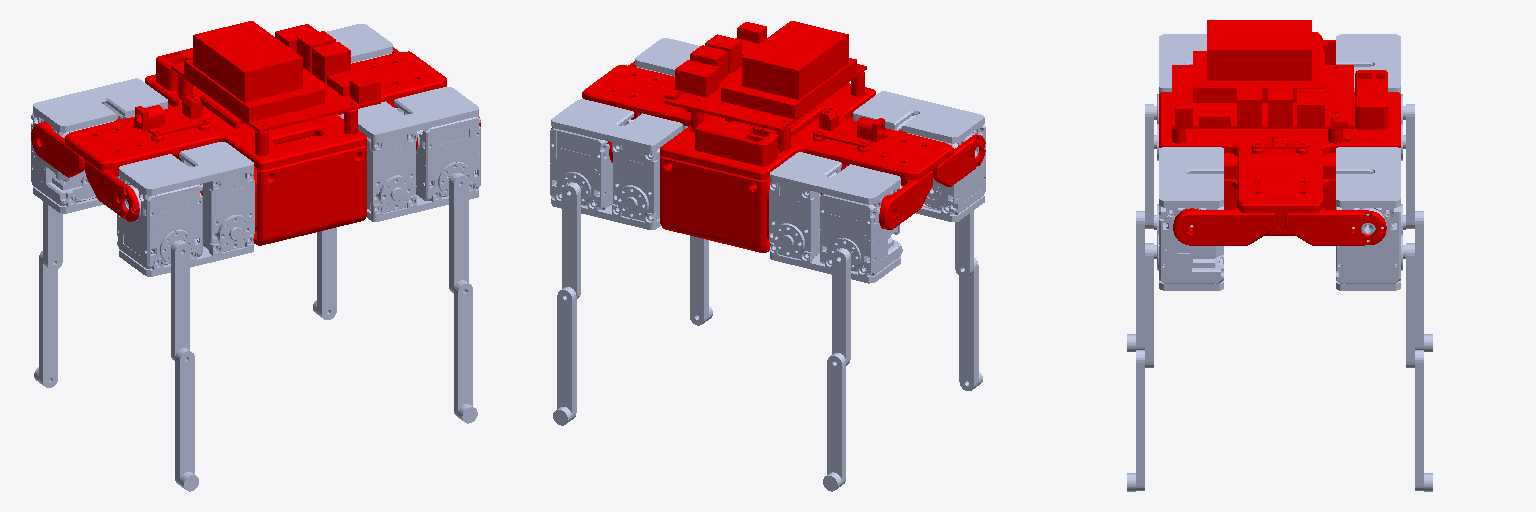
URDF robot description (fooldog_urdf):
<?xml version="1.0" encoding="utf-8"?>
<!-- This URDF was automatically created by SolidWorks to URDF Exporter! Originally created by [author] ([email redacted]) 
     Commit Version: 1.6.0-4-g7f85cfe  Build Version: 1.6.7995.38578
     For more information, please see http://wiki.ros.org/sw_urdf_exporter -->
<robot
  name="fooldog_urdf">
  <link
    name="base_link">
    <visual>
      <origin
        xyz="0 0 0"
        rpy="0 0 0" />
      <geometry>
        <mesh
          filename="package://fooldog_urdf/meshes/base_link.STL" />
      </geometry>
      <material
        name="">
        <color
          rgba="1 0 0 1" />
      </material>
    </visual>
    <collision>
      <origin
        xyz="0 0 0"
        rpy="0 0 0" />
      <geometry>
        <mesh
          filename="package://fooldog_urdf/meshes/base_link.STL" />
      </geometry>
    </collision>
  </link>
  <link
    name="fl_Link">
    <inertial>
      <origin
        xyz="0.0362396128583494 0.000881421034328853 -0.0121399997669012"
        rpy="0 0 0" />
      <mass
        value="0.115606527774141" />
      <inertia
        ixx="2.7672758582273E-05"
        ixy="3.61016816676796E-07"
        ixz="-6.54728431466397E-09"
        iyy="3.30818992521892E-05"
        iyz="2.55280788679725E-07"
        izz="2.76816776750825E-05" />
    </inertial>
    <visual>
      <origin
        xyz="0 0 0"
        rpy="0 0 0" />
      <geometry>
        <mesh
          filename="package://fooldog_urdf/meshes/fl_Link.STL" />
      </geometry>
      <material
        name="">
        <color
          rgba="0.792156862745098 0.819607843137255 0.933333333333333 1" />
      </material>
    </visual>
    <collision>
      <origin
        xyz="0 0 0"
        rpy="0 0 0" />
      <geometry>
        <mesh
          filename="package://fooldog_urdf/meshes/fl_Link.STL" />
      </geometry>
    </collision>
  </link>
  <joint
    name="fl"
    type="revolute">
    <origin
      xyz="0.00723678392728447 0.0485586045266115 -0.0196700000000003"
      rpy="0 0 0" />
    <parent
      link="base_link" />
    <child
      link="fl_Link" />
    <axis
      xyz="1 0 0" />
    <limit command_effort="40" current="10" effort="80" gear_velocity="10" lower="-9.42" upper="9.42" velocity="15.0" />
  </joint>
  <link
    name="flu_Link">
    <inertial>
      <origin
        xyz="-8.3100610129283E-08 0.00250249593004062 -0.0325001100766686"
        rpy="0 0 0" />
      <mass
        value="0.00356977187980691" />
      <inertia
        ixx="1.54760219123258E-06"
        ixy="-1.97101940239977E-13"
        ixz="-1.11937080823944E-11"
        iyy="1.56961934496898E-06"
        iyz="6.87149175614032E-13"
        izz="3.6891361382989E-08" />
    </inertial>
    <visual>
      <origin
        xyz="0 0 0"
        rpy="0 0 0" />
      <geometry>
        <mesh
          filename="package://fooldog_urdf/meshes/flu_Link.STL" />
      </geometry>
      <material
        name="">
        <color
          rgba="0.792156862745098 0.819607843137255 0.933333333333333 1" />
      </material>
    </visual>
    <collision>
      <origin
        xyz="0 0 0"
        rpy="0 0 0" />
      <geometry>
        <mesh
          filename="package://fooldog_urdf/meshes/flu_Link.STL" />
      </geometry>
    </collision>
  </link>
  <joint
    name="flu"
    type="continuous">
    <origin
      xyz="0.0524464493931691 0.0209174990447602 -0.0240000000000004"
      rpy="0 0 0" />
    <parent
      link="fl_Link" />
    <child
      link="flu_Link" />
    <axis
      xyz="0 1 0" />
  </joint>
  <link
    name="fld_Link">
    <inertial>
      <origin
        xyz="-2.18695815623615E-09 0.00249999534071721 -0.0374999107536592"
        rpy="0 0 0" />
      <mass
        value="0.00406938938923673" />
      <inertia
        ixx="2.2827457514132E-06"
        ixy="-1.78424846650356E-14"
        ixz="-9.64938373066733E-12"
        iyy="2.30788290654951E-06"
        iyz="7.26000690668644E-13"
        izz="4.20931619021605E-08" />
    </inertial>
    <visual>
      <origin
        xyz="0 0 0"
        rpy="0 0 0" />
      <geometry>
        <mesh
          filename="package://fooldog_urdf/meshes/fld_Link.STL" />
      </geometry>
      <material
        name="">
        <color
          rgba="0.792156862745098 0.819607843137255 0.933333333333333 1" />
      </material>
    </visual>
    <collision>
      <origin
        xyz="0 0 0"
        rpy="0 0 0" />
      <geometry>
        <mesh
          filename="package://fooldog_urdf/meshes/fld_Link.STL" />
      </geometry>
    </collision>
  </link>
  <joint
    name="fld"
    type="continuous">
    <origin
      xyz="0 0.00500250095523978 -0.0649999643759598"
      rpy="0 0 0" />
    <parent
      link="flu_Link" />
    <child
      link="fld_Link" />
    <axis
      xyz="0 1 0" />
  </joint>
  <link
    name="flf_Link">
    <inertial>
      <origin
        xyz="-1.7541244572844E-07 0.00250004386431849 6.64767560998314E-08"
        rpy="0 0 0" />
      <mass
        value="0.000392662064001443" />
      <inertia
        ixx="3.27416101920322E-09"
        ixy="1.37752604700155E-13"
        ixz="-4.67235530190916E-13"
        iyy="4.90800875634096E-09"
        iyz="-5.22046555243651E-14"
        izz="3.26984780841236E-09" />
    </inertial>
    <visual>
      <origin
        xyz="0 0 0"
        rpy="0 0 0" />
      <geometry>
        <mesh
          filename="package://fooldog_urdf/meshes/flf_Link.STL" />
      </geometry>
      <material
        name="">
        <color
          rgba="0.792156862745098 0.819607843137255 0.933333333333333 1" />
      </material>
    </visual>
    <collision>
      <origin
        xyz="0 0 0"
        rpy="0 0 0" />
      <geometry>
        <mesh
          filename="package://fooldog_urdf/meshes/flf_Link.STL" />
      </geometry>
    </collision>
  </link>
  <joint
    name="flf"
    type="fixed">
    <origin
      xyz="0 0.00499999999999999 -0.074999999999994"
      rpy="0 0 0" />
    <parent
      link="fld_Link" />
    <child
      link="flf_Link" />
  </joint>
  <link
    name="fr_Link">
    <inertial>
      <origin
        xyz="0.0353657573446796 -0.000881458634347174 -0.01213993551594"
        rpy="0 0 0" />
      <mass
        value="0.115607202953719" />
      <inertia
        ixx="2.76734007268047E-05"
        ixy="3.37826313509432E-07"
        ixz="3.83056804594391E-09"
        iyy="3.30828494629692E-05"
        iyz="-2.55205398451743E-07"
        izz="2.76822536893207E-05" />
    </inertial>
    <visual>
      <origin
        xyz="0 0 0"
        rpy="0 0 0" />
      <geometry>
        <mesh
          filename="package://fooldog_urdf/meshes/fr_Link.STL" />
      </geometry>
      <material
        name="">
        <color
          rgba="0.792156862745098 0.819607843137255 0.933333333333333 1" />
      </material>
    </visual>
    <collision>
      <origin
        xyz="0 0 0"
        rpy="0 0 0" />
      <geometry>
        <mesh
          filename="package://fooldog_urdf/meshes/fr_Link.STL" />
      </geometry>
    </collision>
  </link>
  <joint
    name="fr"
    type="revolute">
    <origin
      xyz="0.00723678407973241 -0.0485586045266115 -0.0196700000000008"
      rpy="0 0 0" />
    <parent
      link="base_link" />
    <child
      link="fr_Link" />
    <axis
      xyz="1 0 0" />
    <limit command_effort="40" current="10" effort="80" gear_velocity="10" lower="-9.42" upper="9.42" velocity="15.0" />
  </joint>
  <link
    name="fru_Link">
    <inertial>
      <origin
        xyz="-9.60401154992407E-08 -0.00250250502519832 -0.0325000978434327"
        rpy="0 0 0" />
      <mass
        value="0.00356977238820035" />
      <inertia
        ixx="1.54759961428198E-06"
        ixy="-1.97101704470595E-13"
        ixz="-6.88471641797329E-12"
        iyy="1.56961675869309E-06"
        iyz="6.8714897248459E-13"
        izz="3.68913533286807E-08" />
    </inertial>
    <visual>
      <origin
        xyz="0 0 0"
        rpy="0 0 0" />
      <geometry>
        <mesh
          filename="package://fooldog_urdf/meshes/fru_Link.STL" />
      </geometry>
      <material
        name="">
        <color
          rgba="0.792156862745098 0.819607843137255 0.933333333333333 1" />
      </material>
    </visual>
    <collision>
      <origin
        xyz="0 0 0"
        rpy="0 0 0" />
      <geometry>
        <mesh
          filename="package://fooldog_urdf/meshes/fru_Link.STL" />
      </geometry>
    </collision>
  </link>
  <joint
    name="fru"
    type="continuous">
    <origin
      xyz="0.0524464492407212 -0.0209174999999999 -0.0239999999999998"
      rpy="0 0 0" />
    <parent
      link="fr_Link" />
    <child
      link="fru_Link" />
    <axis
      xyz="0 1 0" />
  </joint>
  <link
    name="frd_Link">
    <inertial>
      <origin
        xyz="-2.18507476001939E-09 -0.00250000465928281 -0.0374999107245979"
        rpy="0 0 0" />
      <mass
        value="0.00406938939511331" />
      <inertia
        ixx="2.28274575309022E-06"
        ixy="-1.78424846448734E-14"
        ixz="-1.5549255750963E-12"
        iyy="2.30788290877387E-06"
        iyz="7.2600069040035E-13"
        izz="4.20931624641901E-08" />
    </inertial>
    <visual>
      <origin
        xyz="0 0 0"
        rpy="0 0 0" />
      <geometry>
        <mesh
          filename="package://fooldog_urdf/meshes/frd_Link.STL" />
      </geometry>
      <material
        name="">
        <color
          rgba="0.792156862745098 0.819607843137255 0.933333333333333 1" />
      </material>
    </visual>
    <collision>
      <origin
        xyz="0 0 0"
        rpy="0 0 0" />
      <geometry>
        <mesh
          filename="package://fooldog_urdf/meshes/frd_Link.STL" />
      </geometry>
    </collision>
  </link>
  <joint
    name="frd"
    type="continuous">
    <origin
      xyz="0 -0.00500249999999999 -0.0649999643759603"
      rpy="0 0 0" />
    <parent
      link="fru_Link" />
    <child
      link="frd_Link" />
    <axis
      xyz="0 1 0" />
  </joint>
  <link
    name="frf_Link">
    <inertial>
      <origin
        xyz="-1.75412445735379E-07 -0.00249995613568155 6.64767560998314E-08"
        rpy="0 0 0" />
      <mass
        value="0.000392662064001445" />
      <inertia
        ixx="3.27416101920321E-09"
        ixy="1.37752604691601E-13"
        ixz="-4.67235530206812E-13"
        iyy="4.90800875634099E-09"
        iyz="-5.2204655523192E-14"
        izz="3.26984780841239E-09" />
    </inertial>
    <visual>
      <origin
        xyz="0 0 0"
        rpy="0 0 0" />
      <geometry>
        <mesh
          filename="package://fooldog_urdf/meshes/frf_Link.STL" />
      </geometry>
      <material
        name="">
        <color
          rgba="0.792156862745098 0.819607843137255 0.933333333333333 1" />
      </material>
    </visual>
    <collision>
      <origin
        xyz="0 0 0"
        rpy="0 0 0" />
      <geometry>
        <mesh
          filename="package://fooldog_urdf/meshes/frf_Link.STL" />
      </geometry>
    </collision>
  </link>
  <joint
    name="frf"
    type="fixed">
    <origin
      xyz="0 -0.005 -0.074999999999994"
      rpy="0 0 0" />
    <parent
      link="frd_Link" />
    <child
      link="frf_Link" />
  </joint>
  <link
    name="bl_Link">
    <inertial>
      <origin
        xyz="-0.0353656984838925 0.000881421071971408 -0.0121399784381246"
        rpy="0 0 0" />
      <mass
        value="0.115606746709192" />
      <inertia
        ixx="2.76728053327667E-05"
        ixy="3.3785144523757E-07"
        ixz="-3.82770738138678E-09"
        iyy="3.30820511910554E-05"
        iyz="2.55278303662232E-07"
        izz="2.76818219754704E-05" />
    </inertial>
    <visual>
      <origin
        xyz="0 0 0"
        rpy="0 0 0" />
      <geometry>
        <mesh
          filename="package://fooldog_urdf/meshes/bl_Link.STL" />
      </geometry>
      <material
        name="">
        <color
          rgba="0.792156862745098 0.819607843137255 0.933333333333333 1" />
      </material>
    </visual>
    <collision>
      <origin
        xyz="0 0 0"
        rpy="0 0 0" />
      <geometry>
        <mesh
          filename="package://fooldog_urdf/meshes/bl_Link.STL" />
      </geometry>
    </collision>
  </link>
  <joint
    name="bl"
    type="revolute">
    <origin
      xyz="-0.0692103140818923 0.0485586045266112 -0.0196700000000008"
      rpy="0 0 0" />
    <parent
      link="base_link" />
    <child
      link="bl_Link" />
    <axis
      xyz="1 0 0" />
    <limit command_effort="40" current="10" effort="80" gear_velocity="10" lower="-9.42" upper="9.42" velocity="15.0" />
  </joint>
  <link
    name="blu_Link">
    <inertial>
      <origin
        xyz="1.1228012866682E-07 0.00250249440029281 -0.032500098852133"
        rpy="0 0 0" />
      <mass
        value="0.00356977238751855" />
      <inertia
        ixx="1.54759981979417E-06"
        ixy="9.94211959482504E-14"
        ixz="5.39826442711664E-12"
        iyy="1.56961637954596E-06"
        iyz="6.26996673026569E-13"
        izz="3.68907686642067E-08" />
    </inertial>
    <visual>
      <origin
        xyz="0 0 0"
        rpy="0 0 0" />
      <geometry>
        <mesh
          filename="package://fooldog_urdf/meshes/blu_Link.STL" />
      </geometry>
      <material
        name="">
        <color
          rgba="0.792156862745098 0.819607843137255 0.933333333333333 1" />
      </material>
    </visual>
    <collision>
      <origin
        xyz="0 0 0"
        rpy="0 0 0" />
      <geometry>
        <mesh
          filename="package://fooldog_urdf/meshes/blu_Link.STL" />
      </geometry>
    </collision>
  </link>
  <joint
    name="blu"
    type="continuous">
    <origin
      xyz="-0.0524464492407207 0.0209175 -0.0239999999999998"
      rpy="0 0 0" />
    <parent
      link="bl_Link" />
    <child
      link="blu_Link" />
    <axis
      xyz="0 1 0" />
  </joint>
  <link
    name="bld_Link">
    <inertial>
      <origin
        xyz="-1.48403035404865E-06 0.00249999533943603 -0.0374999107290417"
        rpy="0 0 0" />
      <mass
        value="0.00406938939249337" />
      <inertia
        ixx="2.2827457410441E-06"
        ixy="-1.77627036630698E-14"
        ixz="-9.15969091535514E-11"
        iyy="2.30788289894054E-06"
        iyz="7.26289520460782E-13"
        izz="4.20931646573267E-08" />
    </inertial>
    <visual>
      <origin
        xyz="0 0 0"
        rpy="0 0 0" />
      <geometry>
        <mesh
          filename="package://fooldog_urdf/meshes/bld_Link.STL" />
      </geometry>
      <material
        name="">
        <color
          rgba="0.792156862745098 0.819607843137255 0.933333333333333 1" />
      </material>
    </visual>
    <collision>
      <origin
        xyz="0 0 0"
        rpy="0 0 0" />
      <geometry>
        <mesh
          filename="package://fooldog_urdf/meshes/bld_Link.STL" />
      </geometry>
    </collision>
  </link>
  <joint
    name="bld"
    type="continuous">
    <origin
      xyz="0 0.00500249999999998 -0.0649999643759606"
      rpy="0 0 0" />
    <parent
      link="blu_Link" />
    <child
      link="bld_Link" />
    <axis
      xyz="0 1 0" />
  </joint>
  <link
    name="blf_Link">
    <inertial>
      <origin
        xyz="-1.75408453165216E-07 0.00250004386431849 6.64936707639452E-08"
        rpy="0 0 0" />
      <mass
        value="0.00039266206400142" />
      <inertia
        ixx="3.27416093160848E-09"
        ixy="1.37749469314318E-13"
        ixz="-4.67362462897062E-13"
        iyy="4.90800876098625E-09"
        iyz="-5.22179387556621E-14"
        izz="3.26984790065226E-09" />
    </inertial>
    <visual>
      <origin
        xyz="0 0 0"
        rpy="0 0 0" />
      <geometry>
        <mesh
          filename="package://fooldog_urdf/meshes/blf_Link.STL" />
      </geometry>
      <material
        name="">
        <color
          rgba="0.792156862745098 0.819607843137255 0.933333333333333 1" />
      </material>
    </visual>
    <collision>
      <origin
        xyz="0 0 0"
        rpy="0 0 0" />
      <geometry>
        <mesh
          filename="package://fooldog_urdf/meshes/blf_Link.STL" />
      </geometry>
    </collision>
  </link>
  <joint
    name="blf"
    type="fixed">
    <origin
      xyz="0 0.00499999999999999 -0.074999999941437"
      rpy="0 0 0" />
    <parent
      link="bld_Link" />
    <child
      link="blf_Link" />
  </joint>
  <link
    name="br_Link">
    <inertial>
      <origin
        xyz="-0.0362397199110994 -0.000881456036391337 -0.0121399127339061"
        rpy="0 0 0" />
      <mass
        value="0.115607363509946" />
      <inertia
        ixx="2.76734322521145E-05"
        ixy="3.60978319233135E-07"
        ixz="6.55980950809089E-09"
        iyy="3.30829941252106E-05"
        iyz="-2.55207890327998E-07"
        izz="2.76823756757094E-05" />
    </inertial>
    <visual>
      <origin
        xyz="0 0 0"
        rpy="0 0 0" />
      <geometry>
        <mesh
          filename="package://fooldog_urdf/meshes/br_Link.STL" />
      </geometry>
      <material
        name="">
        <color
          rgba="0.792156862745098 0.819607843137255 0.933333333333333 1" />
      </material>
    </visual>
    <collision>
      <origin
        xyz="0 0 0"
        rpy="0 0 0" />
      <geometry>
        <mesh
          filename="package://fooldog_urdf/meshes/br_Link.STL" />
      </geometry>
    </collision>
  </link>
  <joint
    name="br"
    type="revolute">
    <origin
      xyz="-0.069210317591168 -0.0485586045266115 -0.0196700000000008"
      rpy="0 0 0" />
    <parent
      link="base_link" />
    <child
      link="br_Link" />
    <axis
      xyz="1 0 0" />
    <limit command_effort="40" current="10" effort="80" gear_velocity="10" lower="-9.42" upper="9.42" velocity="15.0" />
  </joint>
  <link
    name="bru_Link">
    <inertial>
      <origin
        xyz="1.02849901359447E-07 -0.00250250559970802 -0.0325001110853673"
        rpy="0 0 0" />
      <mass
        value="0.00356977187912478" />
      <inertia
        ixx="1.5476023967445E-06"
        ixy="9.94214576251833E-14"
        ixz="9.70725542679528E-12"
        iyy="1.56961896582311E-06"
        iyz="6.26996918220703E-13"
        izz="3.68907767200401E-08" />
    </inertial>
    <visual>
      <origin
        xyz="0 0 0"
        rpy="0 0 0" />
      <geometry>
        <mesh
          filename="package://fooldog_urdf/meshes/bru_Link.STL" />
      </geometry>
      <material
        name="">
        <color
          rgba="0.792156862745098 0.819607843137255 0.933333333333333 1" />
      </material>
    </visual>
    <collision>
      <origin
        xyz="0 0 0"
        rpy="0 0 0" />
      <geometry>
        <mesh
          filename="package://fooldog_urdf/meshes/bru_Link.STL" />
      </geometry>
    </collision>
  </link>
  <joint
    name="bru"
    type="continuous">
    <origin
      xyz="-0.052446449240721 -0.0209174999999999 -0.0239999999999998"
      rpy="0 0 0" />
    <parent
      link="br_Link" />
    <child
      link="bru_Link" />
    <axis
      xyz="0 1 0" />
  </joint>
  <link
    name="brd_Link">
    <inertial>
      <origin
        xyz="-1.48402847253981E-06 -0.00250000466056437 -0.0374999107581021"
        rpy="0 0 0" />
      <mass
        value="0.00406938938661598" />
      <inertia
        ixx="2.28274574000674E-06"
        ixy="-1.77626978067659E-14"
        ixz="-8.35024509948514E-11"
        iyy="2.30788289671611E-06"
        iyz="7.26289512701157E-13"
        izz="4.20931634555637E-08" />
    </inertial>
    <visual>
      <origin
        xyz="0 0 0"
        rpy="0 0 0" />
      <geometry>
        <mesh
          filename="package://fooldog_urdf/meshes/brd_Link.STL" />
      </geometry>
      <material
        name="">
        <color
          rgba="0.792156862745098 0.819607843137255 0.933333333333333 1" />
      </material>
    </visual>
    <collision>
      <origin
        xyz="0 0 0"
        rpy="0 0 0" />
      <geometry>
        <mesh
          filename="package://fooldog_urdf/meshes/brd_Link.STL" />
      </geometry>
    </collision>
  </link>
  <joint
    name="brd"
    type="continuous">
    <origin
      xyz="0 -0.00500249999999999 -0.0649999643759606"
      rpy="0 0 0" />
    <parent
      link="bru_Link" />
    <child
      link="brd_Link" />
    <axis
      xyz="0 1 0" />
  </joint>
  <link
    name="brf_Link">
    <inertial>
      <origin
        xyz="-1.75408453165216E-07 -0.00249995613568155 6.64936707917008E-08"
        rpy="0 0 0" />
      <mass
        value="0.000392662064001423" />
      <inertia
        ixx="3.27416093160849E-09"
        ixy="1.37749469310933E-13"
        ixz="-4.67362462889038E-13"
        iyy="4.90800876098628E-09"
        iyz="-5.22179387502366E-14"
        izz="3.2698479006523E-09" />
    </inertial>
    <visual>
      <origin
        xyz="0 0 0"
        rpy="0 0 0" />
      <geometry>
        <mesh
          filename="package://fooldog_urdf/meshes/brf_Link.STL" />
      </geometry>
      <material
        name="">
        <color
          rgba="0.792156862745098 0.819607843137255 0.933333333333333 1" />
      </material>
    </visual>
    <collision>
      <origin
        xyz="0 0 0"
        rpy="0 0 0" />
      <geometry>
        <mesh
          filename="package://fooldog_urdf/meshes/brf_Link.STL" />
      </geometry>
    </collision>
  </link>
  <joint
    name="brf"
    type="fixed">
    <origin
      xyz="0 -0.005 -0.074999999941437"
      rpy="0 0 0" />
    <parent
      link="brd_Link" />
    <child
      link="brf_Link" />
  </joint>
</robot>

--- Facts derived from the render (not from the file) ---
The picture shows the robot from 3 angles, left to right: view 1: azimuth 30°, elevation 25°; view 2: azimuth 150°, elevation 25°; view 3: azimuth 270°, elevation 25°; orthographic projection.
Robot: fooldog_urdf — 17 links, 16 joints (4 revolute, 8 continuous, 4 fixed); root link base_link; default pose: all joints at 0.
Links seen in each view (by area): view 1: base_link, br_Link, fr_Link, bl_Link, brd_Link, frd_Link, bld_Link, fru_Link, bru_Link, fld_Link, fl_Link, blu_Link; view 2: base_link, bl_Link, fl_Link, br_Link, fld_Link, brd_Link, bld_Link, blu_Link, flu_Link, frd_Link, fr_Link, bru_Link; view 3: base_link, fl_Link, fr_Link, bl_Link, br_Link, fld_Link, frd_Link, bld_Link, brd_Link, flu_Link, fru_Link, blu_Link (+1 smaller).
Boxes of the visible links, bbox=[...] form: base_link: bbox=[31, 21, 480, 245]; br_Link: bbox=[117, 142, 254, 276]; fr_Link: bbox=[358, 87, 480, 221]; bl_Link: bbox=[31, 78, 167, 213]; brd_Link: bbox=[175, 348, 194, 485]; frd_Link: bbox=[454, 280, 472, 418]; bld_Link: bbox=[39, 251, 57, 387]; fru_Link: bbox=[449, 173, 468, 293]; bru_Link: bbox=[171, 240, 189, 360]; fld_Link: bbox=[317, 227, 336, 319]; fl_Link: bbox=[326, 24, 392, 118]; blu_Link: bbox=[43, 201, 62, 270]; base_link: bbox=[551, 21, 985, 252]; bl_Link: bbox=[769, 152, 902, 283]; fl_Link: bbox=[550, 99, 682, 229]; br_Link: bbox=[853, 91, 985, 221]; fld_Link: bbox=[557, 287, 576, 419]; brd_Link: bbox=[959, 258, 978, 390]; bld_Link: bbox=[827, 353, 845, 485]; blu_Link: bbox=[832, 248, 850, 365]; flu_Link: bbox=[562, 182, 580, 298]; frd_Link: bbox=[690, 236, 708, 325]; fr_Link: bbox=[635, 38, 699, 129]; bru_Link: bbox=[955, 211, 973, 277]; base_link: bbox=[1159, 20, 1400, 245]; fl_Link: bbox=[1336, 147, 1405, 290]; fr_Link: bbox=[1154, 147, 1223, 290]; bl_Link: bbox=[1336, 34, 1405, 160]; br_Link: bbox=[1154, 34, 1206, 160]; fld_Link: bbox=[1415, 350, 1423, 490]; frd_Link: bbox=[1136, 350, 1144, 490]; bld_Link: bbox=[1415, 211, 1423, 349]; brd_Link: bbox=[1136, 211, 1144, 349]; flu_Link: bbox=[1406, 243, 1414, 367]; fru_Link: bbox=[1145, 243, 1153, 367]; blu_Link: bbox=[1406, 104, 1414, 228].
Bounding box of the posed robot: 0.2264 × 0.169 × 0.229 m (x, y, z).
17 mesh visuals loaded from 17 distinct referenced files (17 binary STL).
